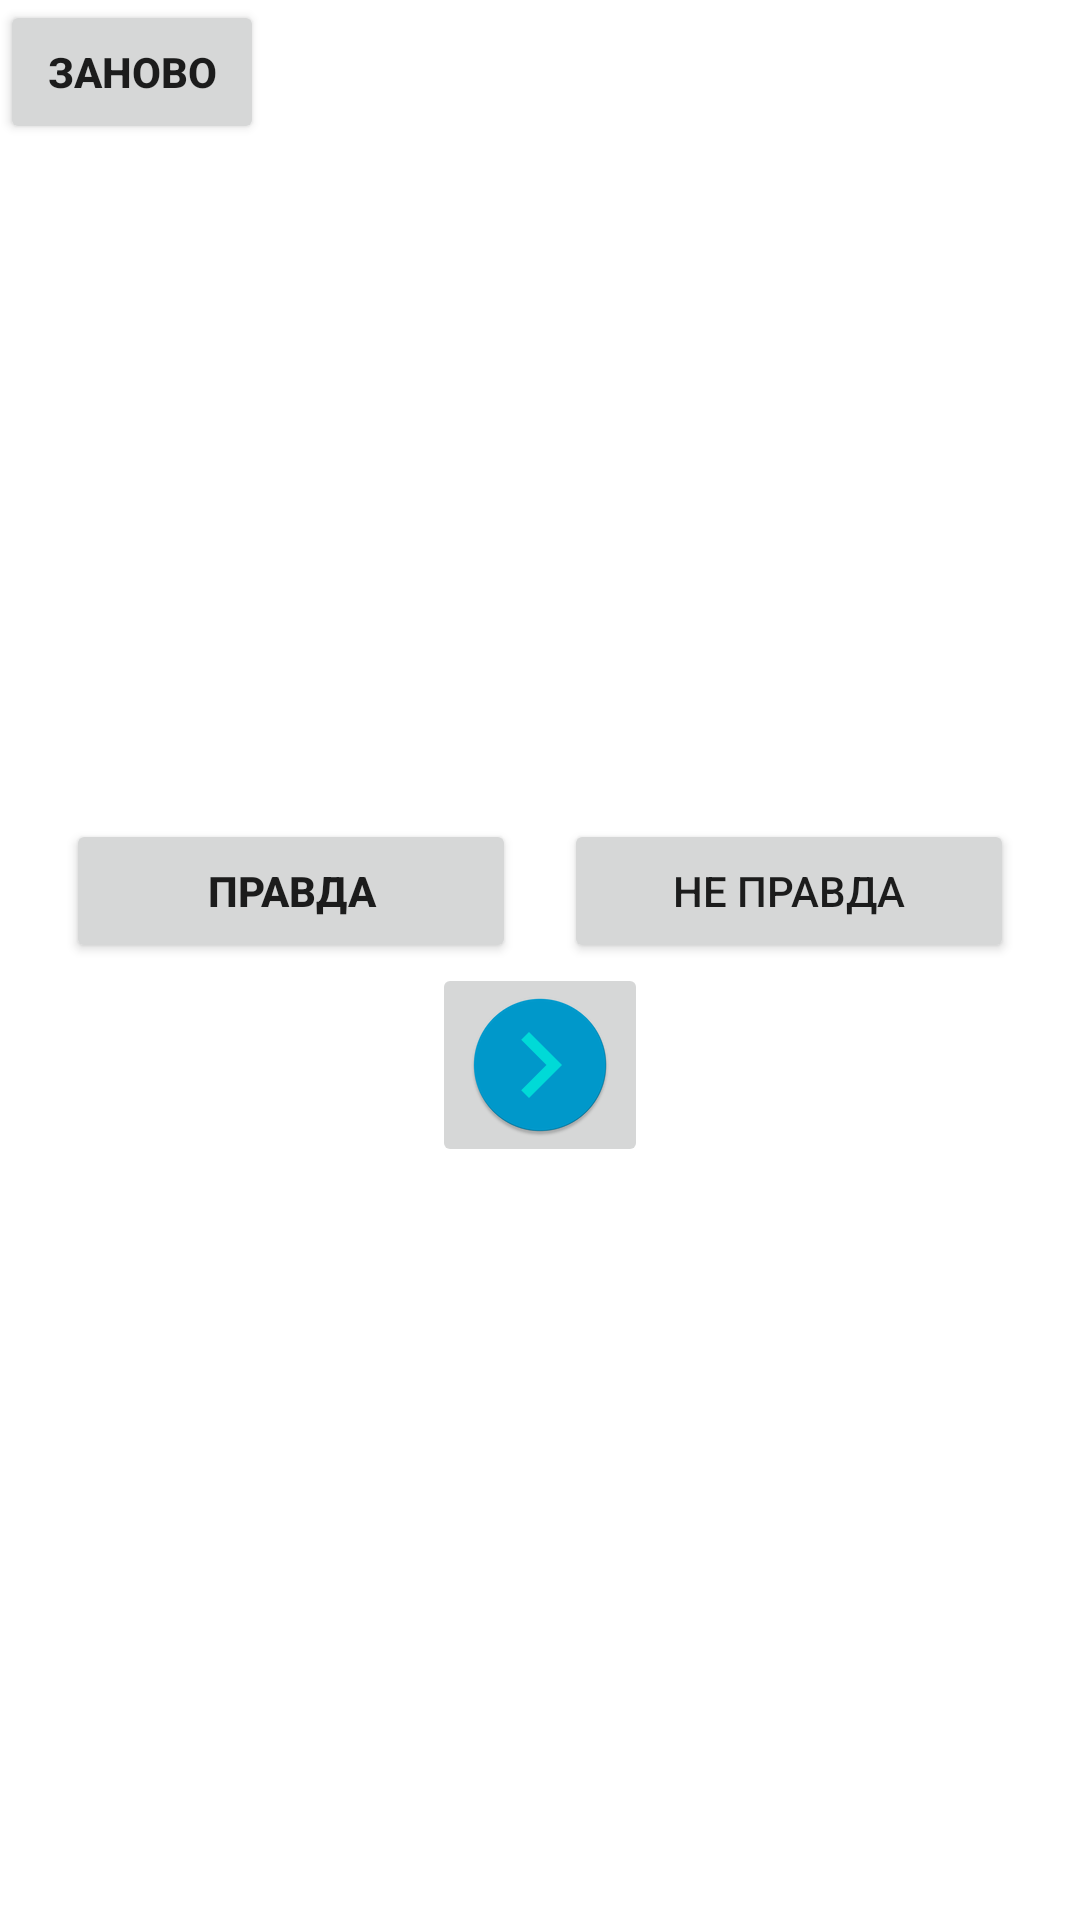

Named icons in this screenshot (1080px×1920px) and their centers, (x=x, y=y):
Next question: (x=540, y=1065)
